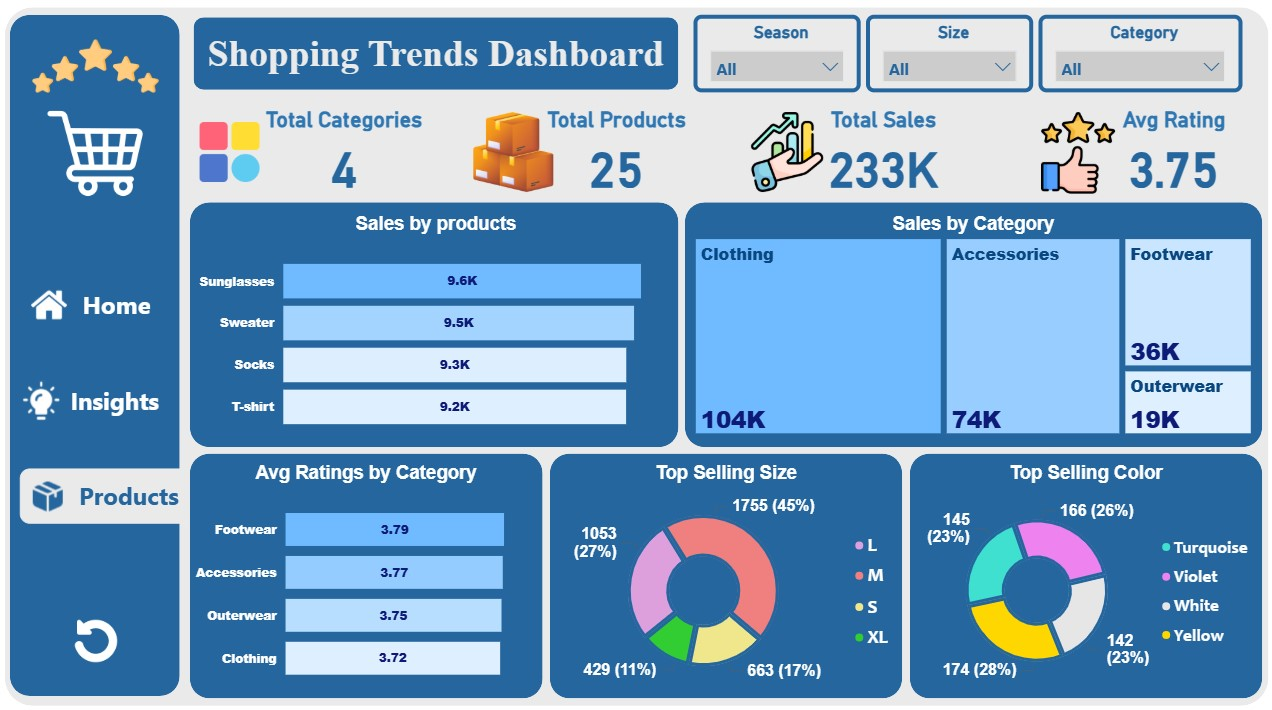

The dashboard page shown, as its layout file describes it:
{"tool":"powerbi","page":{"name":"Products ","canvas":[1280,720],"ordinal":2},"visuals":[{"type":"shape","box":[8.8,11.2,1263.8,698.8],"z":0},{"type":"shape","box":[13.8,18.8,170,681.2],"z":1000},{"type":"image","box":[27.5,105,142.5,105],"z":2000},{"type":"actionButton","title":"insights_default","box":[21.2,377.5,195,55],"z":3000},{"type":"actionButton","title":"products_default","box":[21.2,473.8,203.8,55],"z":4000},{"type":"actionButton","title":"home_default ","box":[26.2,281.2,188.8,55],"z":5000},{"type":"actionButton","title":"products_selected","box":[23.8,472.5,218.8,55],"z":9000},{"type":"card","title":"Total Categories","fields":{"Values":["Count(Sheet1.Category)"]},"box":[233.3,111.2,228.8,90],"z":10000},{"type":"card","title":"Total Products","fields":{"Values":["Count(Sheet1.Item_Purchased)"]},"box":[541,111.2,158.8,90],"z":11000},{"type":"shape","box":[193.8,206.2,488.8,245],"z":12000},{"type":"clusteredBarChart","title":"Sales by products","fields":{"Category":["Sheet1.Item_Purchased"],"Y":["Sum(Sheet1.Purchase_Amount_USD)"]},"box":[197.5,217.5,485,233.8],"z":13000},{"type":"shape","box":[193.8,457.5,353,245],"z":14000},{"type":"shape","box":[688.8,206.2,577.5,245],"z":15000},{"type":"image","box":[8.8,0,181.2,140],"z":16000},{"type":"treemap","title":"Sales by Category","fields":{"Group":["Sheet1.Category"],"Values":["Sum(Sheet1.Purchase_Amount_USD)"]},"box":[695,217.5,565,225],"z":17000},{"type":"slicer","title":"Season","fields":{"Values":["Sheet1.Season"]},"box":[697.5,18.8,167.5,77.5],"z":18000},{"type":"slicer","title":"Size","fields":{"Values":["Sheet1.Size"]},"box":[869.7,18.8,167.5,77.5],"z":19000},{"type":"slicer","title":"Category","fields":{"Values":["Sheet1.Category"]},"box":[1042.2,18.8,203.8,77.5],"z":20000},{"type":"shape","box":[197.5,21.2,485,72.5],"z":21000},{"type":"textbox","box":[197.5,31.2,485,63.8],"z":22000},{"type":"shape","box":[553.8,457.5,352.5,245],"z":23000},{"type":"shape","box":[913.8,457.5,352.5,245],"z":24000},{"type":"pieChart","title":"Top Selling Size","fields":{"Category":["Sheet1.Size"],"Y":["Count(Sheet1.Customer_ID)"]},"box":[553.8,466.2,352.5,236.2],"z":25000},{"type":"donutChart","title":"Top Selling Color","fields":{"Category":["Sheet1.Color"],"Y":["Count(Sheet1.Customer_ID)"]},"box":[913.8,466.2,352.5,236.2],"z":26000},{"type":"card","title":"Total Sales","fields":{"Values":["Sum(Sheet1.Purchase_Amount_USD)"]},"box":[802.3,111.2,170,90],"z":27000},{"type":"image","box":[745.7,111.2,90,90],"z":28000},{"type":"card","title":"Avg Rating","fields":{"Values":["Avg(Sheet1.Review_Rating)"]},"box":[1114,111.2,128.8,90],"z":29000},{"type":"image","box":[1029.5,111.3,103.8,91.2],"z":30000},{"type":"image","box":[472.5,111.2,90,90],"z":31000},{"type":"image","box":[188.8,111.2,90,90],"z":32000},{"type":"clusteredBarChart","title":"Avg Ratings by Category","fields":{"Category":["Sheet1.Category"],"Y":["Avg(Sheet1.Review_Rating)"]},"box":[193.8,466.2,352.5,236.2],"z":33000},{"type":"image","box":[70,615,60,60],"z":34000}]}

Visuals, with their boxes in screenshot pixels (x1, y1, x2, y2), scaled from the page's 1280x720 canvas onto the 1272x710 screenshot:
shape: 9, 11, 1265, 700
shape: 14, 19, 183, 690
image: 27, 104, 169, 207
"insights_default" actionButton: 21, 372, 215, 426
"products_default" actionButton: 21, 467, 224, 521
"home_default " actionButton: 26, 277, 214, 332
"products_selected" actionButton: 24, 466, 241, 520
"Total Categories" card: 232, 110, 459, 198
"Total Products" card: 538, 110, 695, 198
shape: 193, 203, 678, 445
"Sales by products" clusteredBarChart: 196, 214, 678, 445
shape: 193, 451, 543, 693
shape: 684, 203, 1258, 445
image: 9, 0, 189, 138
"Sales by Category" treemap: 691, 214, 1252, 436
"Season" slicer: 693, 19, 860, 95
"Size" slicer: 864, 19, 1031, 95
"Category" slicer: 1036, 19, 1238, 95
shape: 196, 21, 678, 92
textbox: 196, 31, 678, 94
shape: 550, 451, 901, 693
shape: 908, 451, 1258, 693
"Top Selling Size" pieChart: 550, 460, 901, 693
"Top Selling Color" donutChart: 908, 460, 1258, 693
"Total Sales" card: 797, 110, 966, 198
image: 741, 110, 830, 198
"Avg Rating" card: 1107, 110, 1235, 198
image: 1023, 110, 1126, 200
image: 470, 110, 559, 198
image: 188, 110, 277, 198
"Avg Ratings by Category" clusteredBarChart: 193, 460, 543, 693
image: 70, 606, 129, 666
